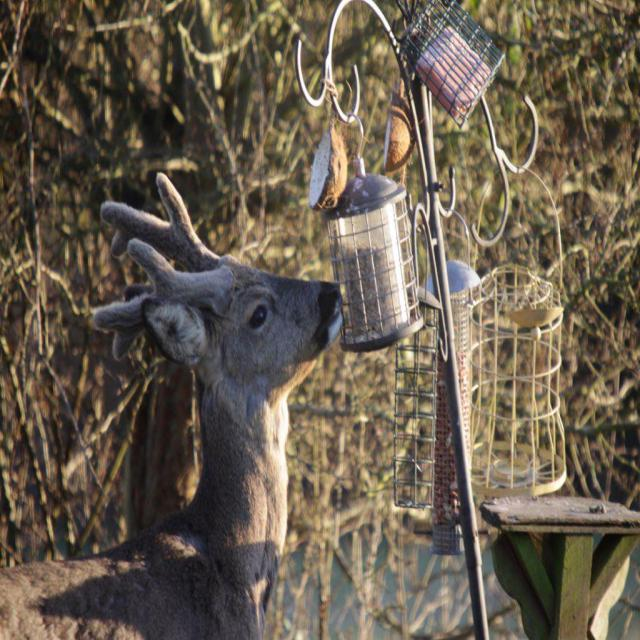Deer: (0, 171, 343, 639)
